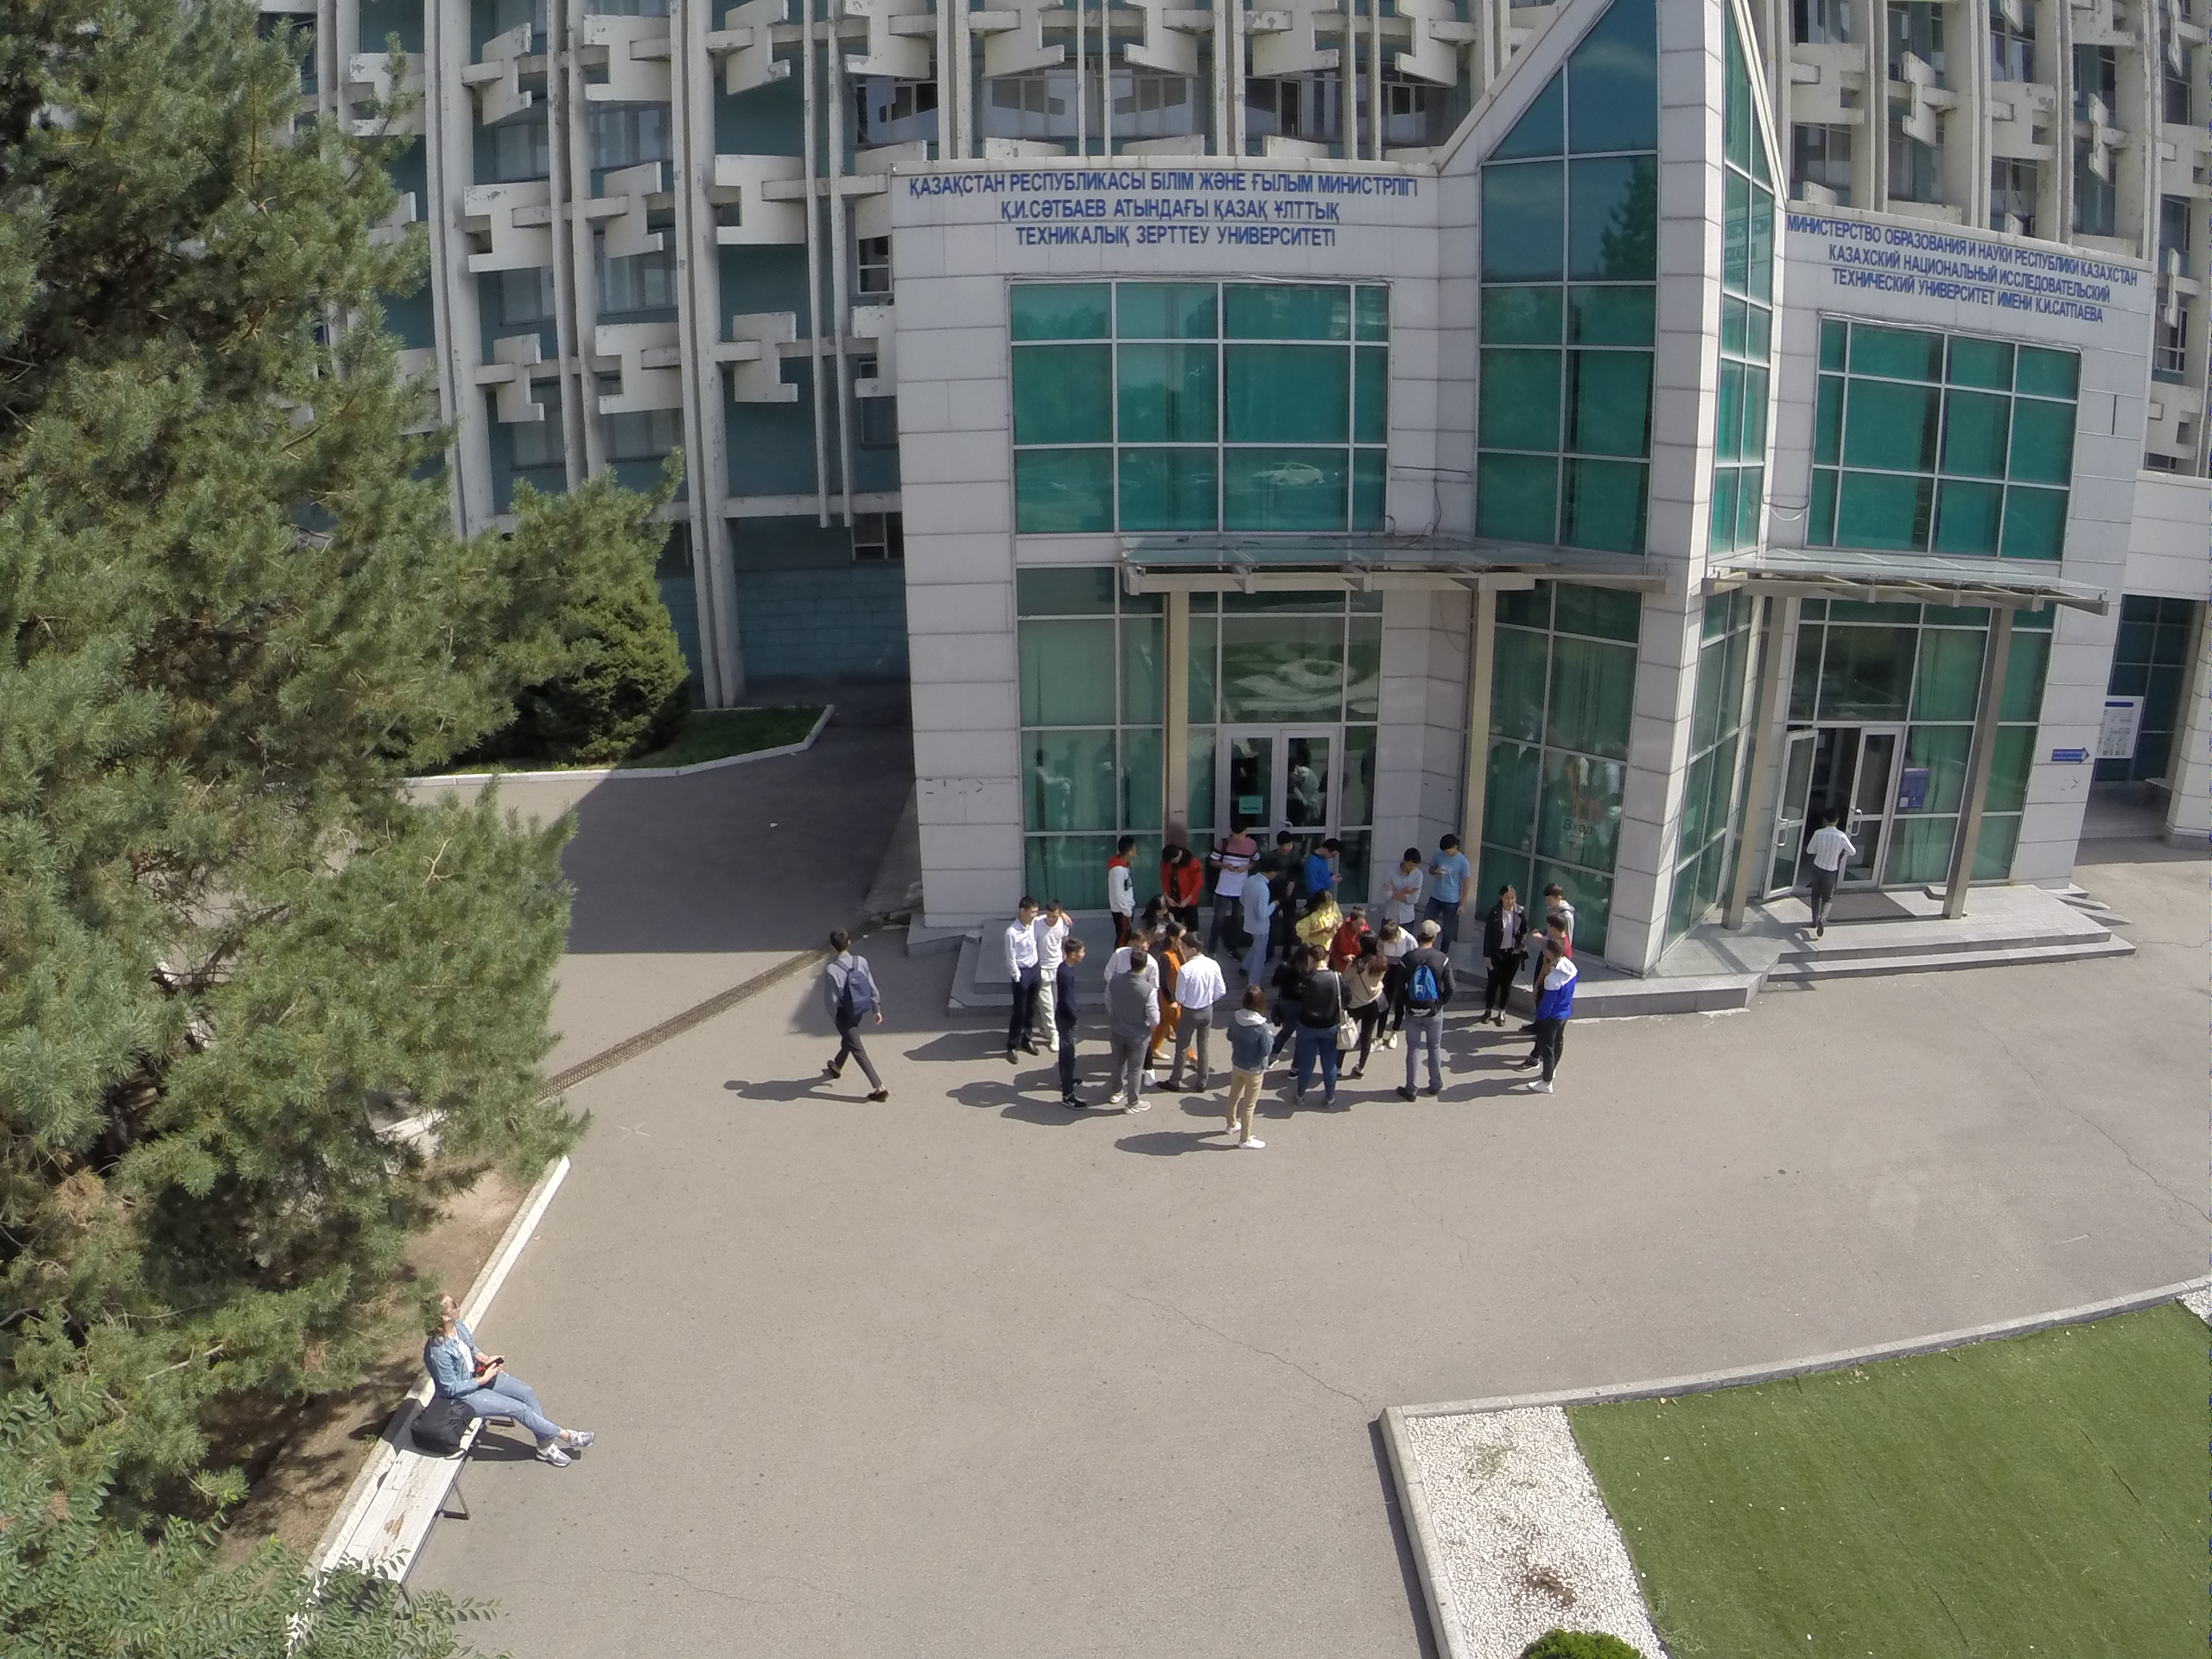person: (377, 1281, 600, 1473), (816, 924, 895, 1106), (1389, 917, 1456, 1107), (1284, 939, 1351, 1110), (1335, 924, 1392, 1084), (1224, 982, 1277, 1155), (1171, 934, 1224, 1096), (1109, 947, 1155, 1117), (1051, 934, 1091, 1123), (1027, 899, 1074, 1054), (1237, 855, 1285, 989), (1475, 880, 1518, 1030), (1338, 933, 1381, 1076), (1003, 912, 1041, 1071), (1421, 829, 1472, 943), (1529, 942, 1565, 1105), (1095, 835, 1147, 941), (1812, 801, 1842, 939), (1162, 839, 1206, 931), (1212, 824, 1247, 934), (1386, 848, 1427, 932), (1303, 836, 1352, 900), (1535, 880, 1580, 926), (1271, 834, 1299, 878)
